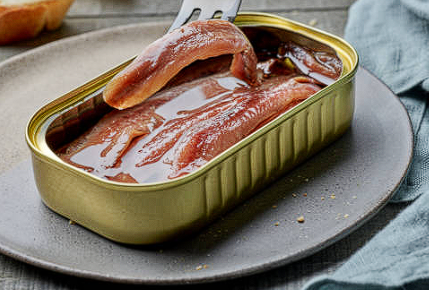Danificado: (27, 18, 361, 176)
